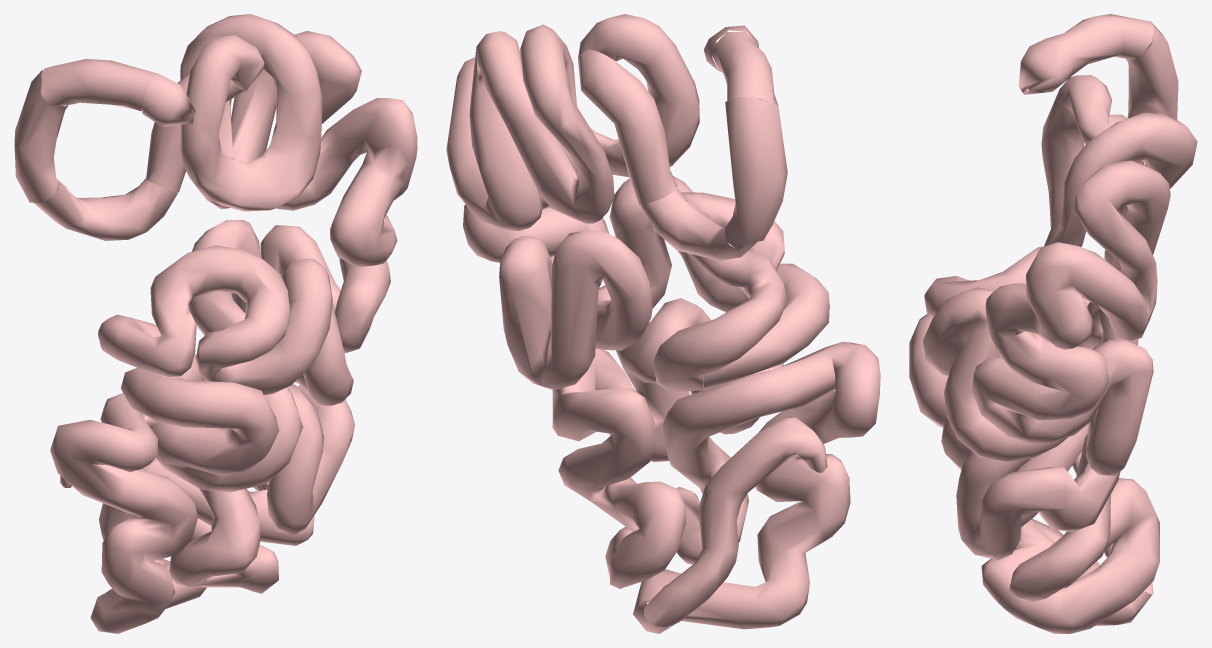
The model's file is vh_m_small_intestine.glb.
3 renders of one model, left to right at view 1: azimuth 30°, elevation 25°; view 2: azimuth 150°, elevation 25°; view 3: azimuth 270°, elevation 25°, orthographic. The views are drawn at different scales.
Visible parts, largest first — view 1: VH_M_jejunum, VH_M_ileum, VH_M_duodenum_horizonal, VH_M_duodenum_superior, VH_M_duodenum_descending, VH_M_duodenum_ascending, VH_M_duodenal_ampulla, VH_M_ileum_terminal; view 2: VH_M_jejunum, VH_M_ileum, VH_M_ileum_terminal, VH_M_duodenum_descending, VH_M_duodenum_ascending, VH_M_duodenum_horizonal, VH_M_duodenum_superior; view 3: VH_M_jejunum, VH_M_ileum, VH_M_duodenum_superior, VH_M_duodenum_descending, VH_M_duodenal_ampulla.
Part boxes in pixels (left/top/right/bottom): VH_M_jejunum: left=98, top=14, right=417, bottom=405; VH_M_ileum: left=50, top=368, right=354, bottom=633; VH_M_duodenum_horizonal: left=33, top=178, right=177, bottom=240; VH_M_duodenum_superior: left=41, top=59, right=156, bottom=110; VH_M_duodenum_descending: left=14, top=70, right=70, bottom=202; VH_M_duodenum_ascending: left=146, top=74, right=244, bottom=192; VH_M_duodenal_ampulla: left=142, top=73, right=195, bottom=126; VH_M_ileum_terminal: left=60, top=469, right=156, bottom=562; VH_M_jejunum: left=446, top=14, right=787, bottom=391; VH_M_ileum: left=552, top=263, right=880, bottom=633; VH_M_ileum_terminal: left=644, top=417, right=827, bottom=627; VH_M_duodenum_descending: left=724, top=96, right=787, bottom=250; VH_M_duodenum_ascending: left=578, top=49, right=677, bottom=205; VH_M_duodenum_horizonal: left=640, top=188, right=757, bottom=260; VH_M_duodenum_superior: left=712, top=31, right=778, bottom=106; VH_M_jejunum: left=923, top=75, right=1197, bottom=475; VH_M_ileum: left=909, top=313, right=1159, bottom=633; VH_M_duodenum_superior: left=1048, top=14, right=1154, bottom=76; VH_M_duodenum_descending: left=1126, top=21, right=1178, bottom=119; VH_M_duodenal_ampulla: left=1018, top=38, right=1072, bottom=94.
Bounding box in the file's own units: 0.1883 × 0.2652 × 0.1224.
